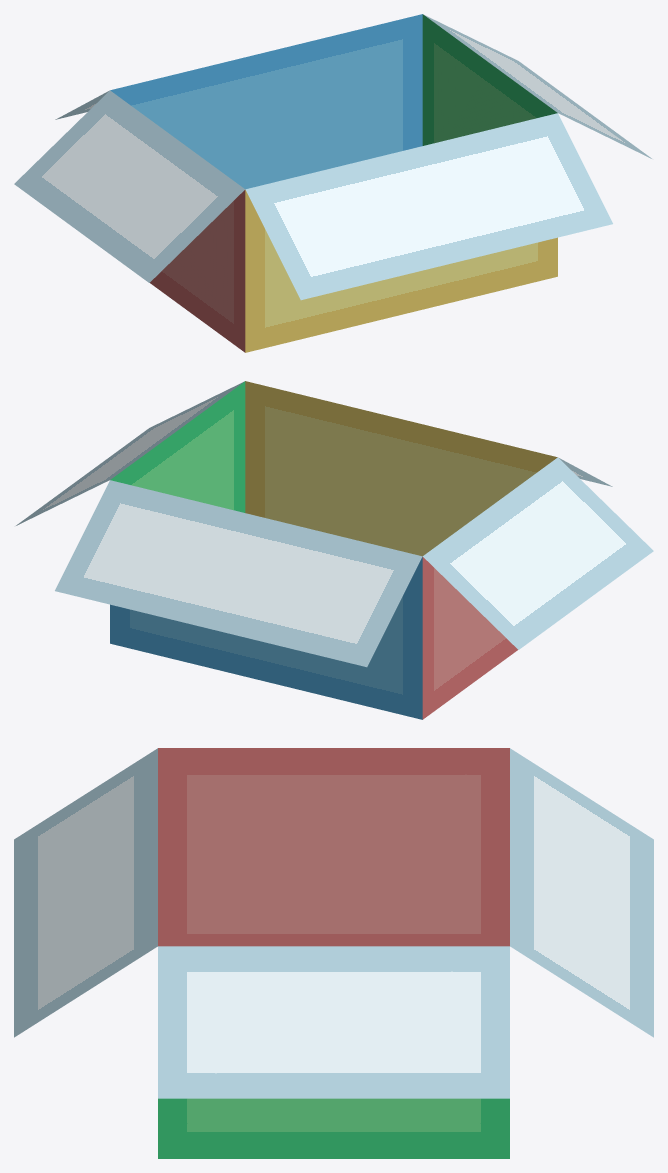
The model's file is Cardboard_Open.gltf.
3 renders of one model, top to bottom at view 1: azimuth 30°, elevation 25°; view 2: azimuth 150°, elevation 25°; view 3: azimuth 270°, elevation 25°, orthographic. The views are drawn at different scales.
Visible parts, largest first — view 1: Cardboard, Cardboard_south_seal, Cardboard_west_seal, Cardboard_east_seal; view 2: Cardboard, Cardboard_north_seal, Cardboard_west_seal, Cardboard_east_seal; view 3: Cardboard, Cardboard_east_seal, Cardboard_north_seal, Cardboard_south_seal.
Part boxes in pixels (<box>): Cardboard: <box>110,14,557,352</box>; Cardboard_south_seal: <box>245,113,612,300</box>; Cardboard_west_seal: <box>14,90,244,282</box>; Cardboard_east_seal: <box>423,14,651,158</box>; Cardboard: <box>110,381,557,719</box>; Cardboard_north_seal: <box>55,480,422,667</box>; Cardboard_west_seal: <box>423,457,653,649</box>; Cardboard_east_seal: <box>16,381,244,525</box>; Cardboard: <box>158,748,509,1158</box>; Cardboard_east_seal: <box>158,946,509,1098</box>; Cardboard_north_seal: <box>510,748,653,1037</box>; Cardboard_south_seal: <box>14,748,157,1037</box>.
Size of the model in its own units: 1.61 by 0.5 by 1.36.
Materials: 1 (1 with a texture image).
